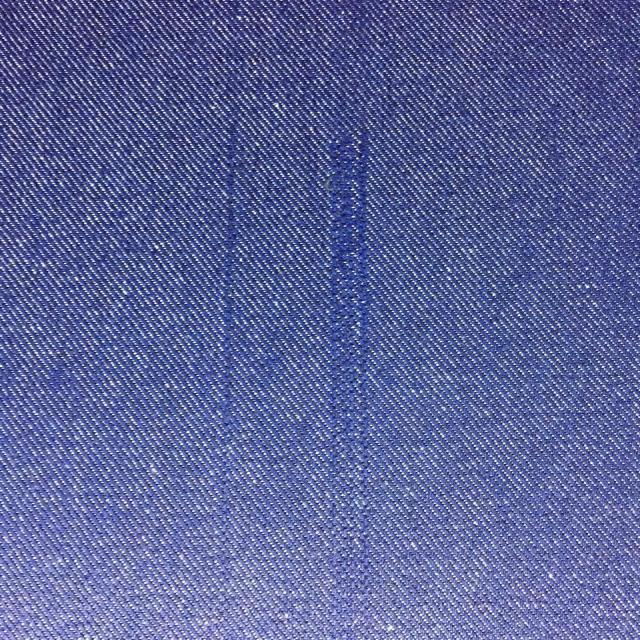Line: (323, 130, 377, 610), (212, 73, 241, 583)
